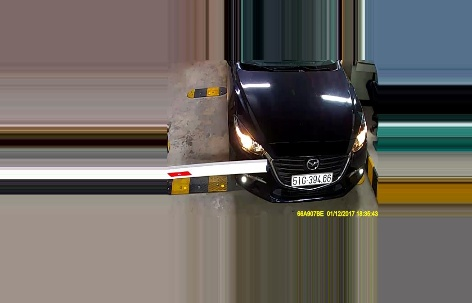plate: (287, 172, 333, 186)
